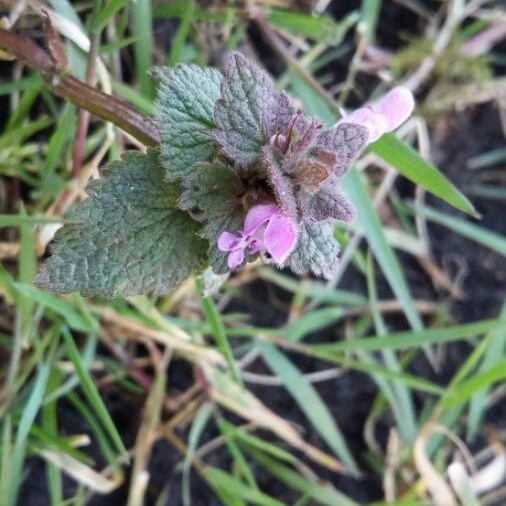obstacle: (60, 58, 341, 314)
